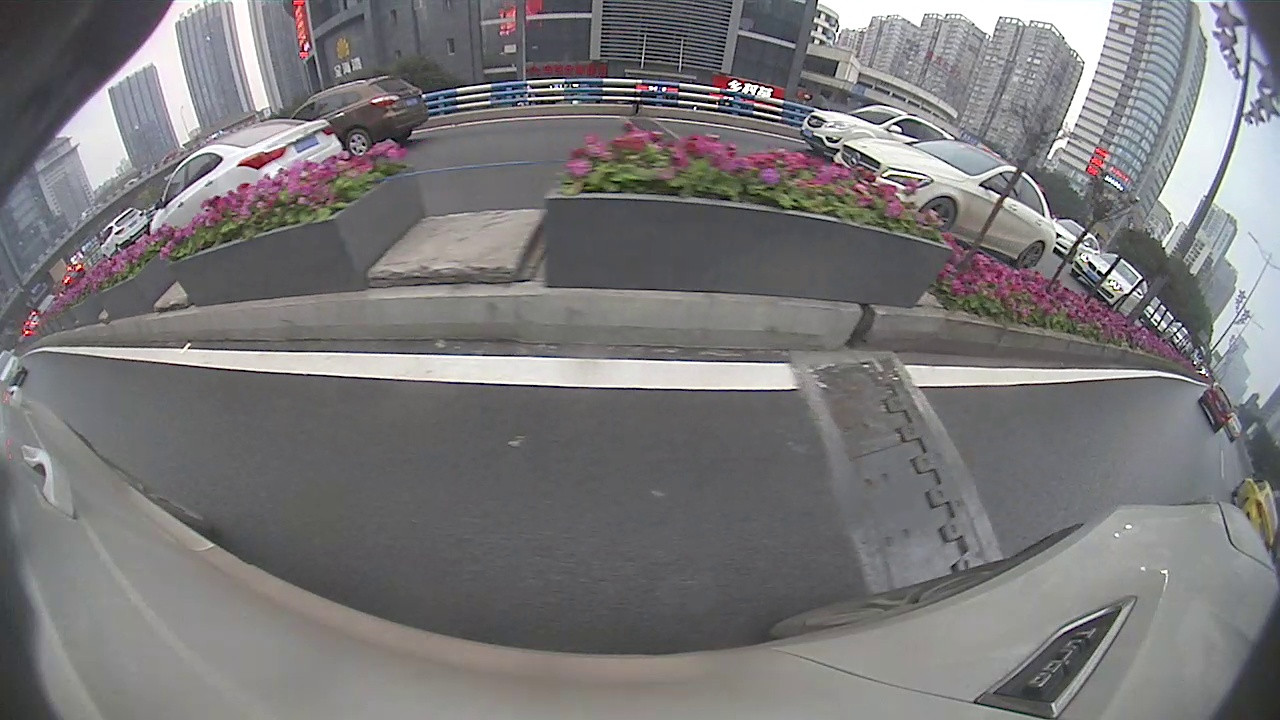car: (833, 140, 1057, 277), (148, 119, 344, 236), (284, 76, 428, 156), (800, 102, 954, 163), (1069, 252, 1145, 309), (99, 207, 151, 260), (1196, 382, 1232, 434)
front: (918, 194, 956, 233)
rear: (1016, 240, 1048, 271), (344, 127, 374, 155)
